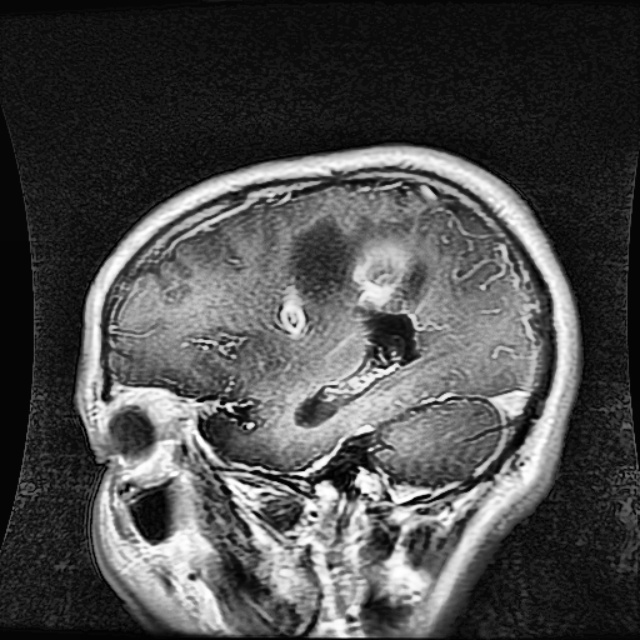Meningioma: (294, 239, 419, 424)
